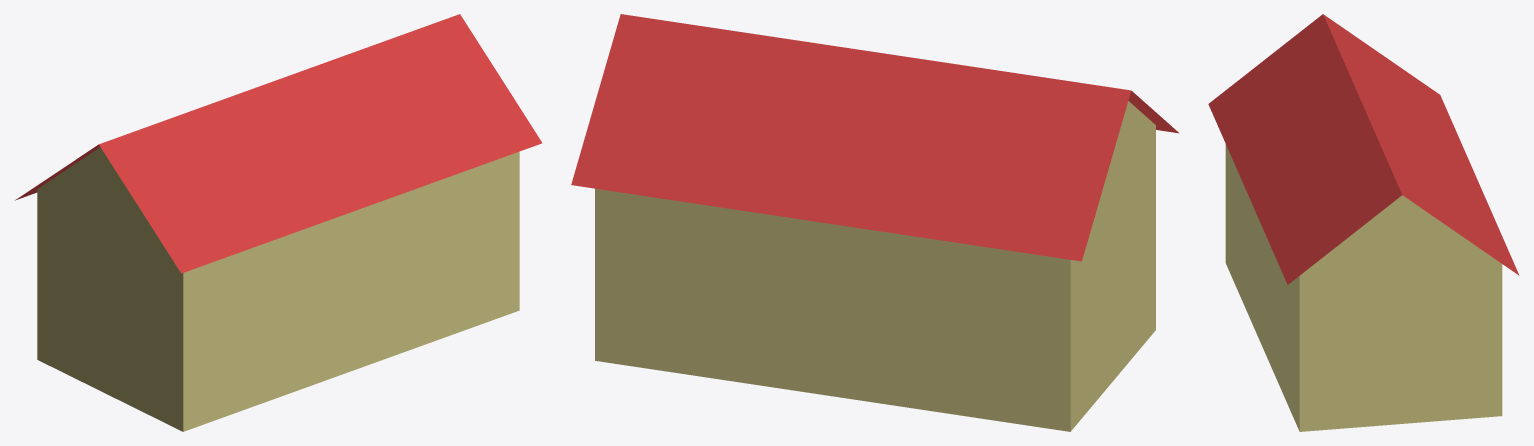
The picture shows the model from 3 angles, left to right: view 1: azimuth 30°, elevation 25°; view 2: azimuth 150°, elevation 25°; view 3: azimuth 270°, elevation 25°; orthographic projection. The views are drawn at different scales.
Bounding box in the file's own units: 23.61 × 15.59 × 13.
